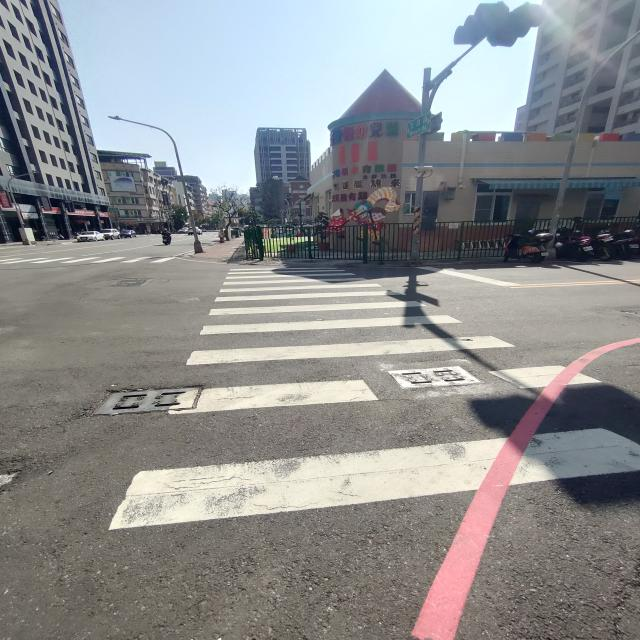zebra_crossing: (434, 246, 640, 509), (176, 129, 178, 387)
